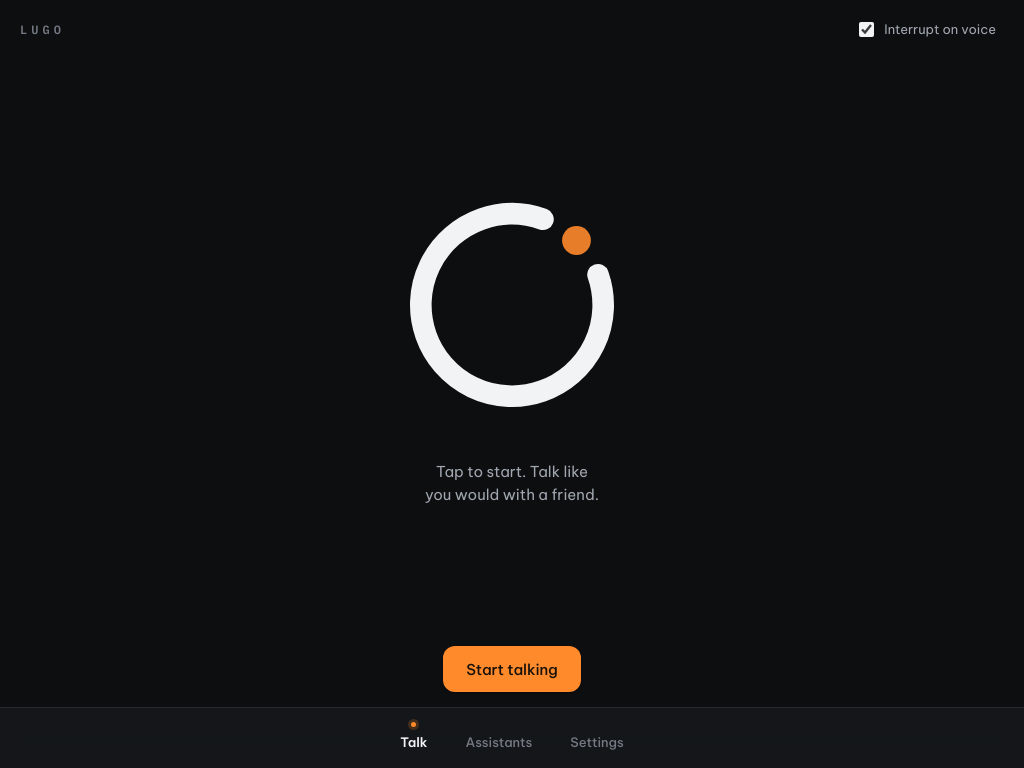
App navigation › reaches every settings panel and back
Step 1. Click the button "Settings" → (597, 738), box [552,714,642,762]
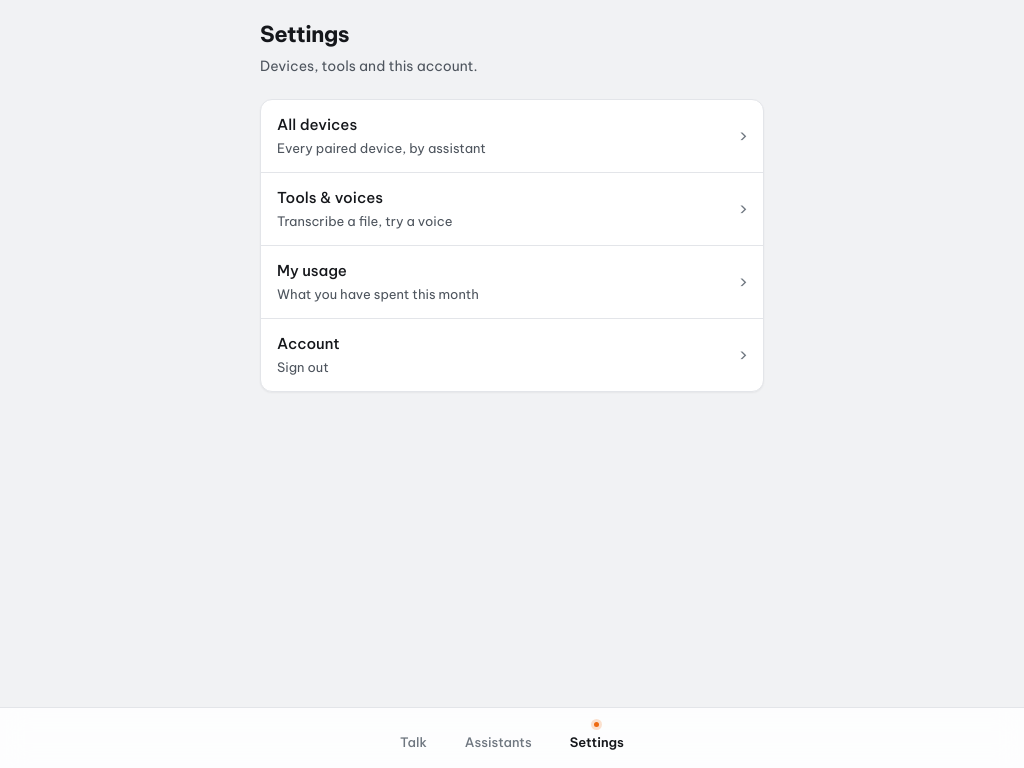
Step 2. Click the text "All devices" → (317, 124), box [277,115,357,134]
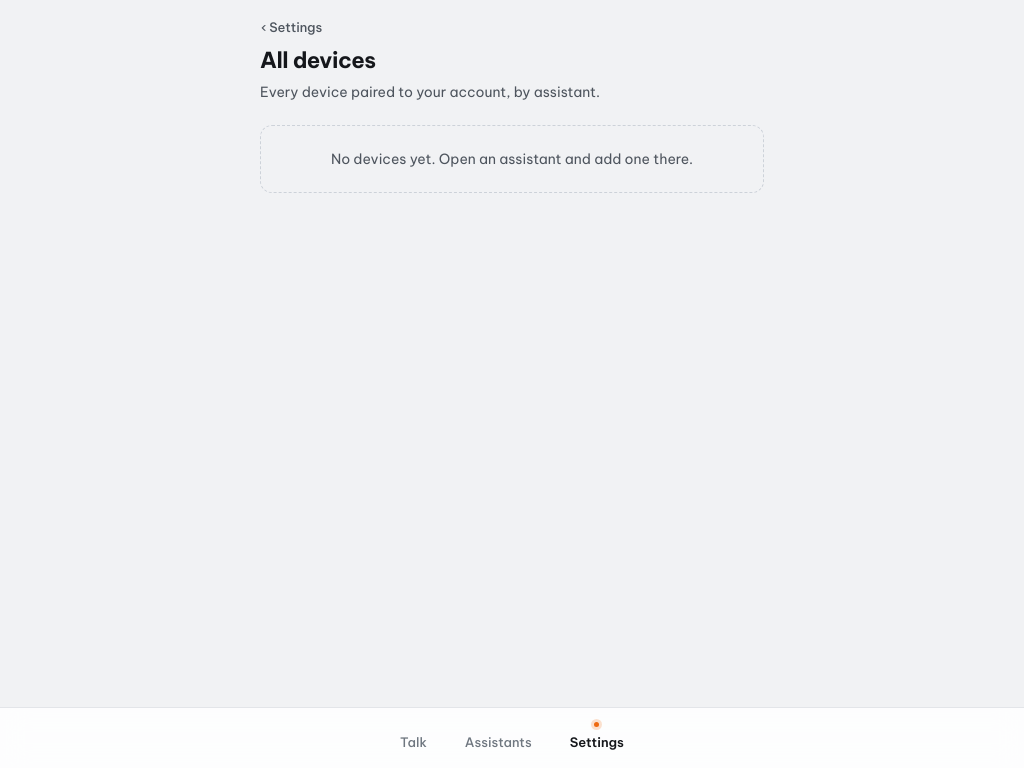
Expected: the heading "All devices" is shown, [260,47,376,73]
Step 3. Click the button "‹ Settings" → (292, 27), box [250,12,333,42]
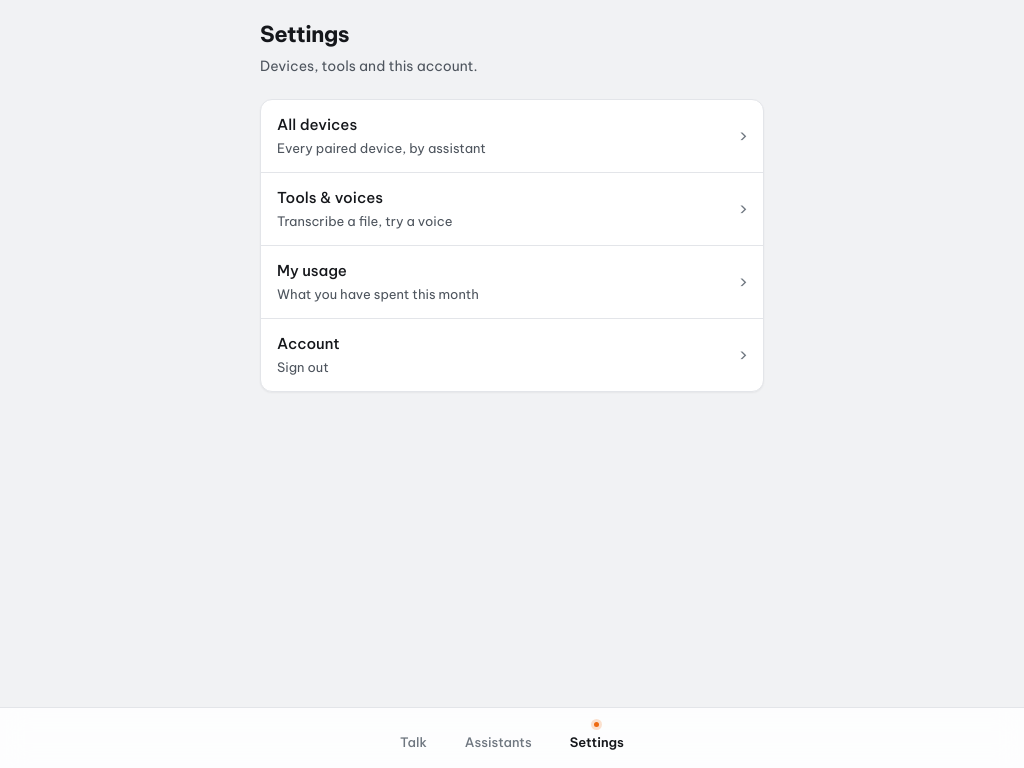
Step 4. Click the text "Account" → (308, 344), box [277,333,340,356]
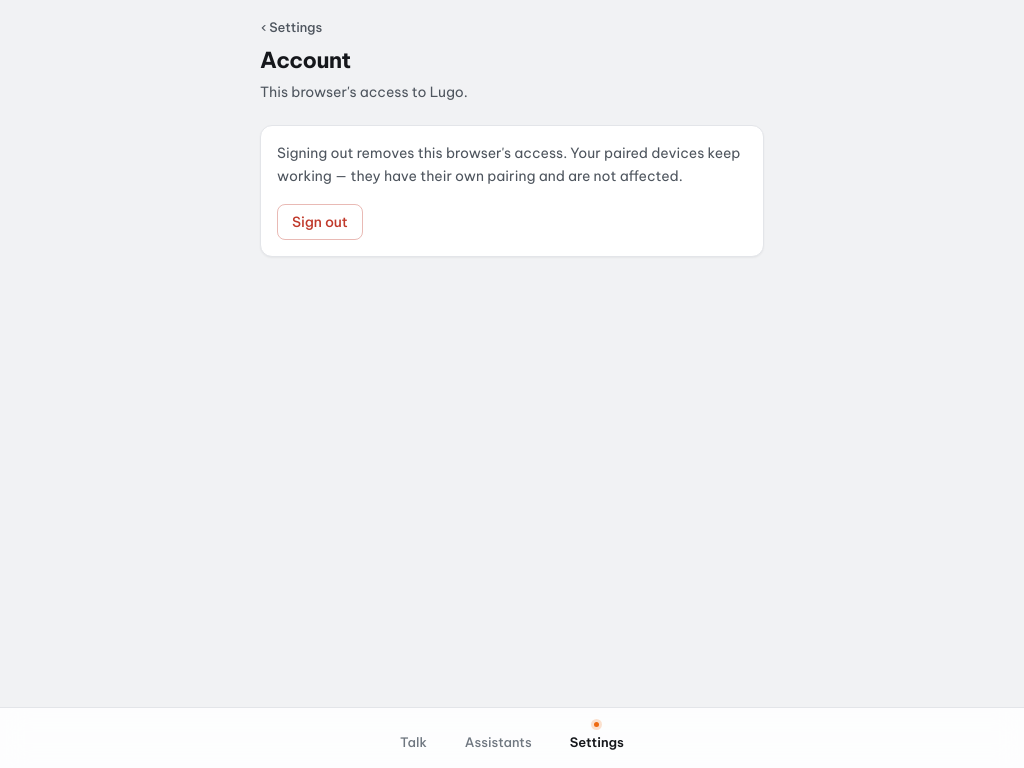
Expected: the heading "Account" is shown, [260,47,351,73]
